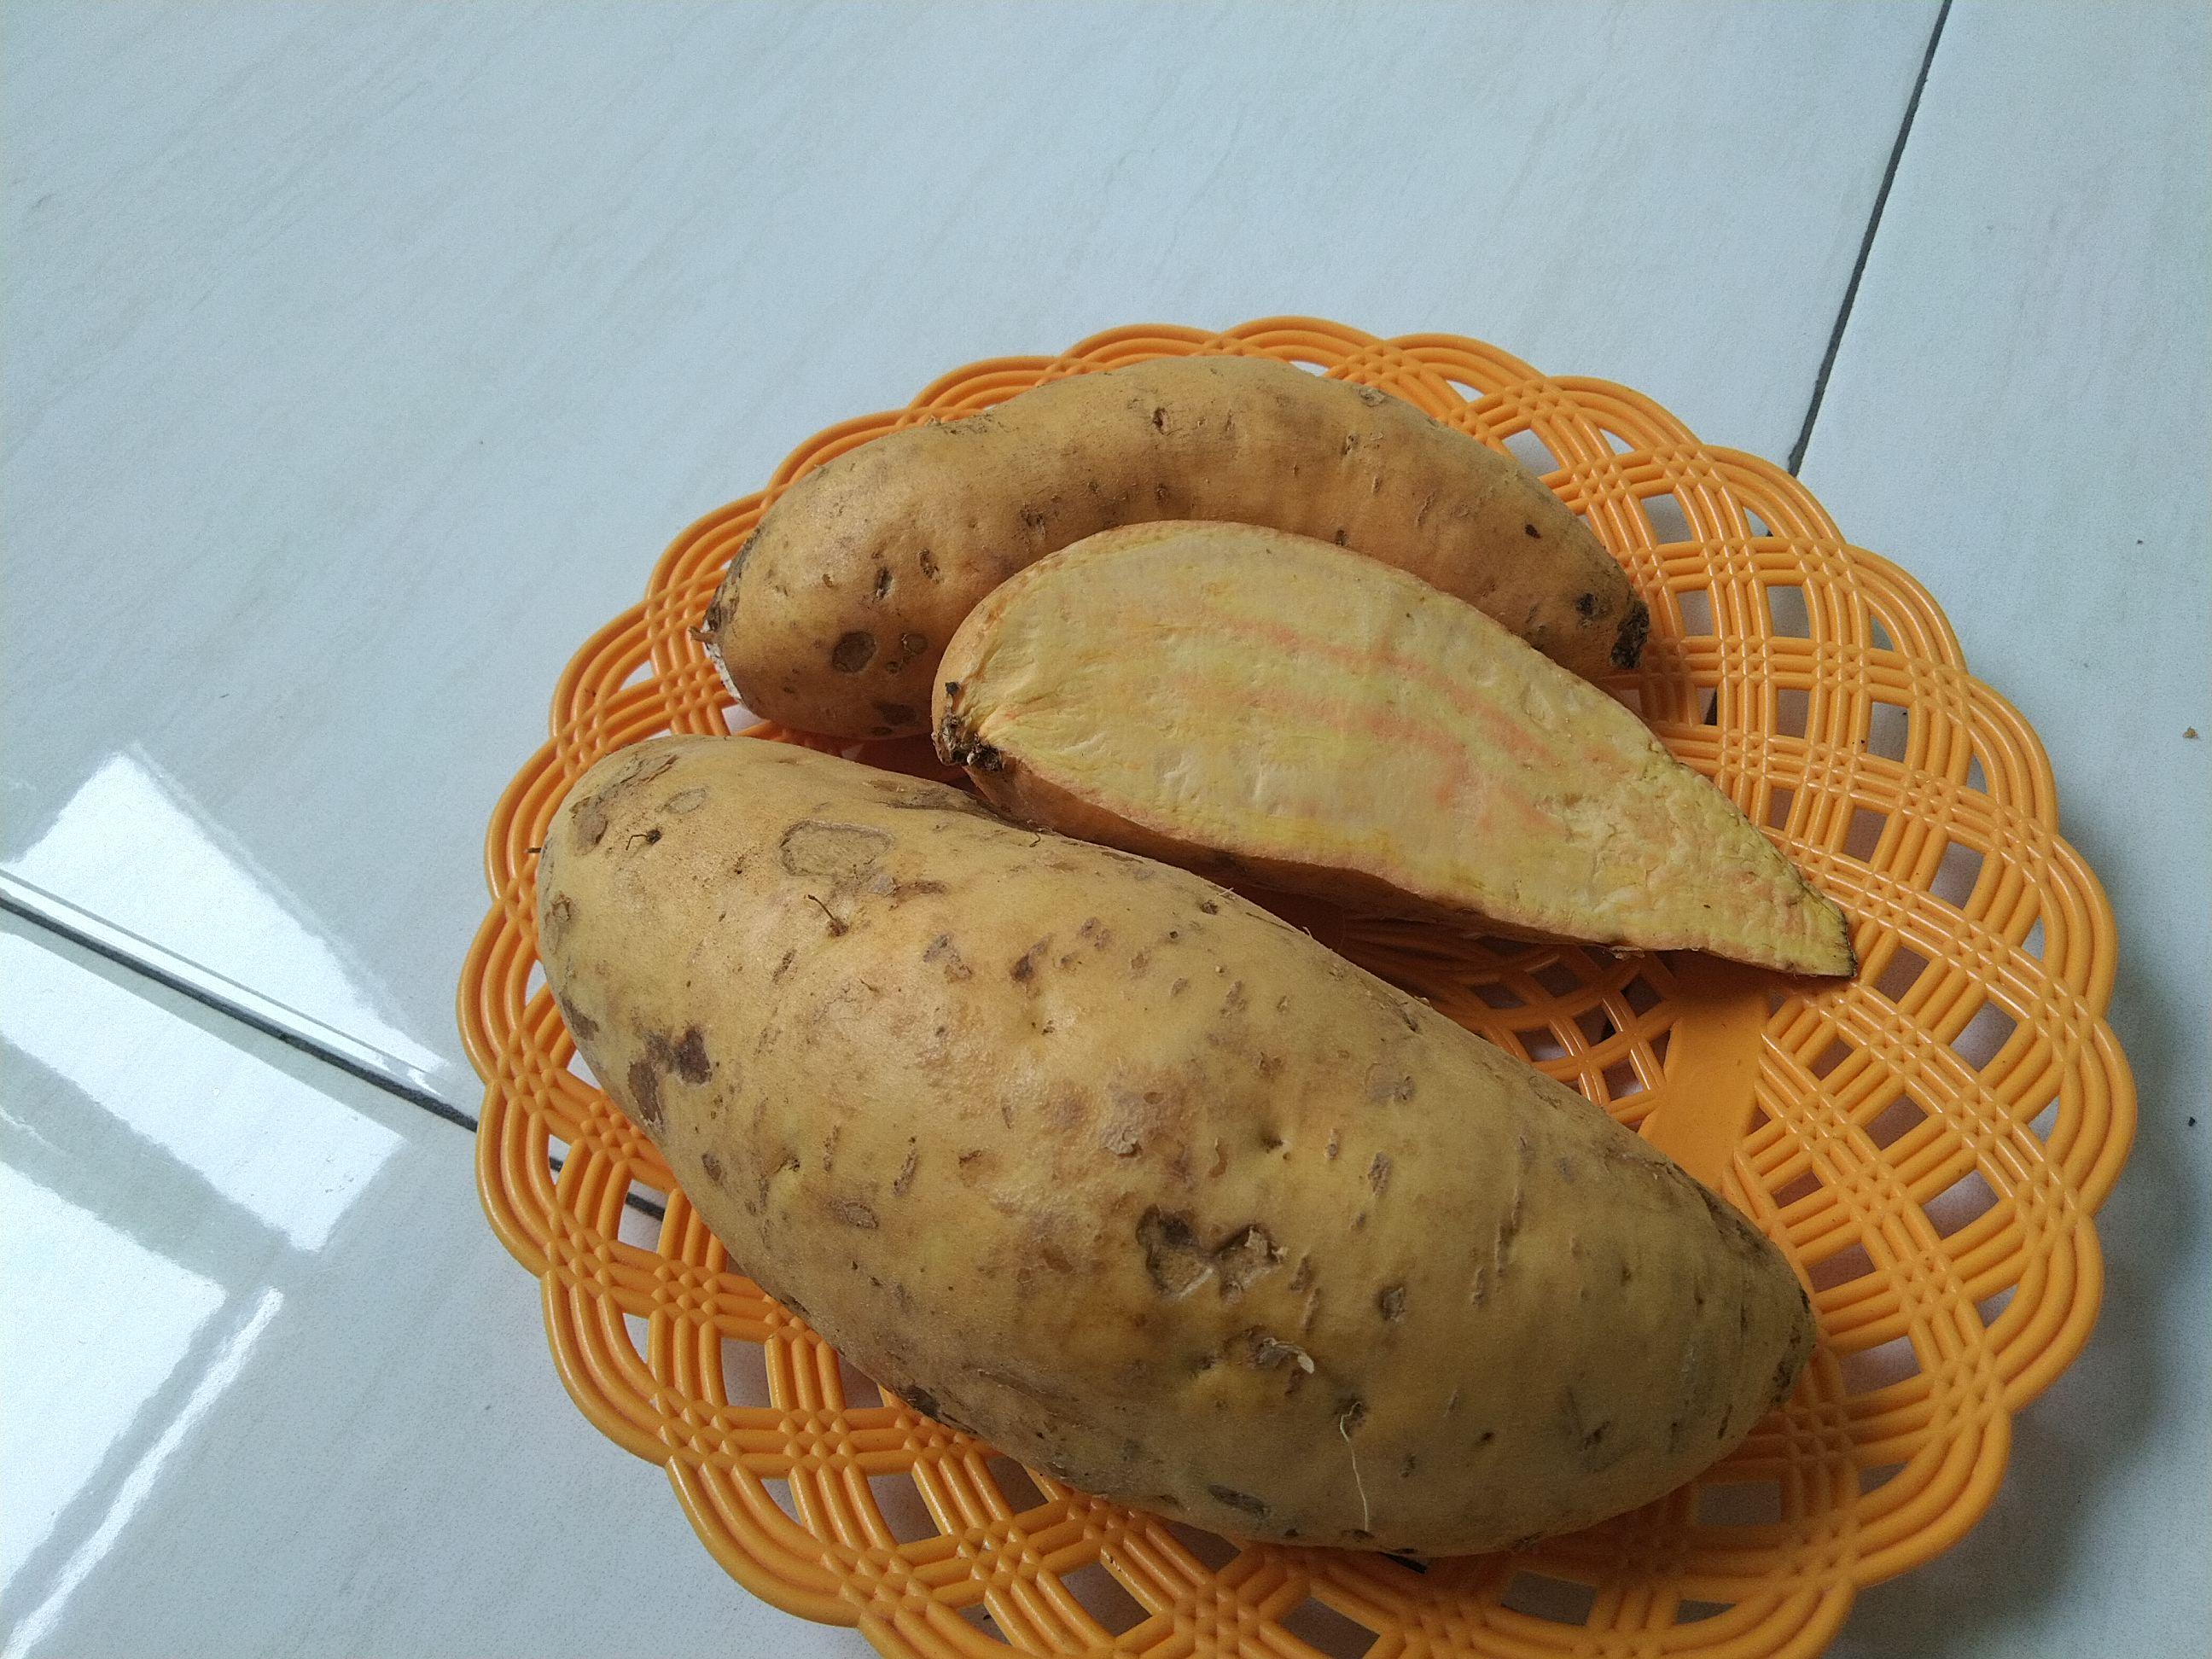ubi cilembu: (503, 354, 1869, 1577), (536, 727, 1838, 1568), (935, 495, 1898, 992), (712, 354, 1695, 730)
